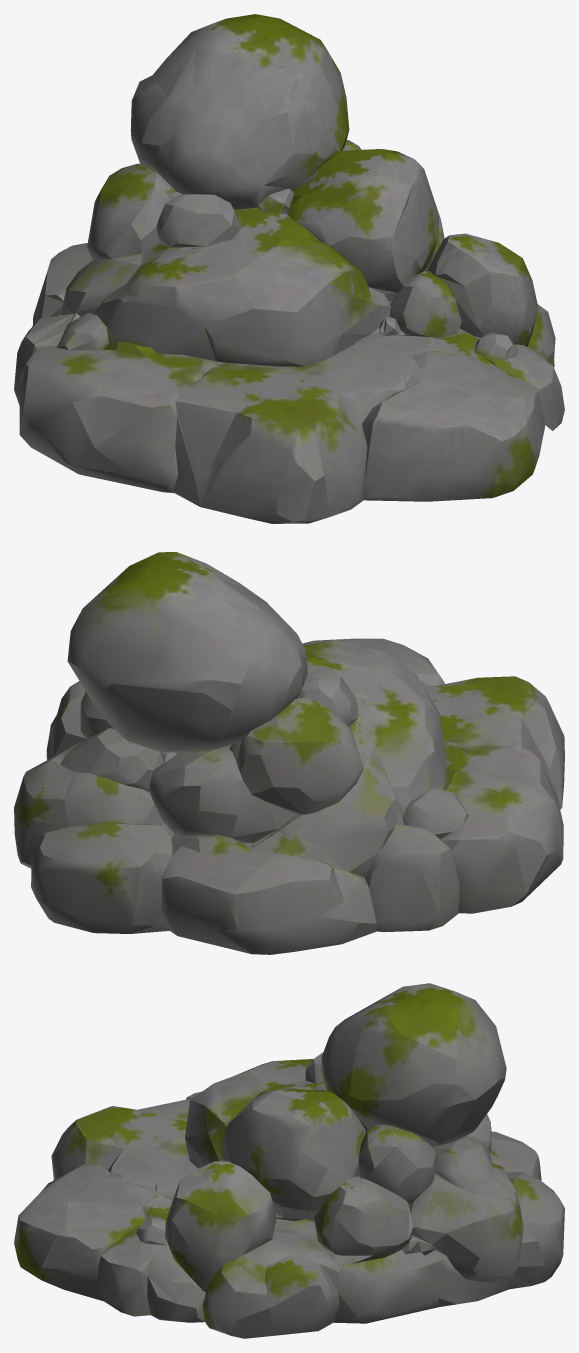
File: rock-pile-large.glb
3 renders of one model, top to bottom at view 1: azimuth 30°, elevation 25°; view 2: azimuth 150°, elevation 25°; view 3: azimuth 270°, elevation 25°, orthographic. The views are drawn at different scales.
Parts seen in each view (by area): view 1: rock-pile-large-fit; view 2: rock-pile-large-fit; view 3: rock-pile-large-fit.
Part boxes in pixels (x1,y1,x2,y2): rock-pile-large-fit: [14, 14, 564, 523]; rock-pile-large-fit: [14, 552, 564, 954]; rock-pile-large-fit: [14, 983, 564, 1338].
Size of the model in its own units: 2.03 by 1.2 by 2.26.
1 material, 1 textured.
